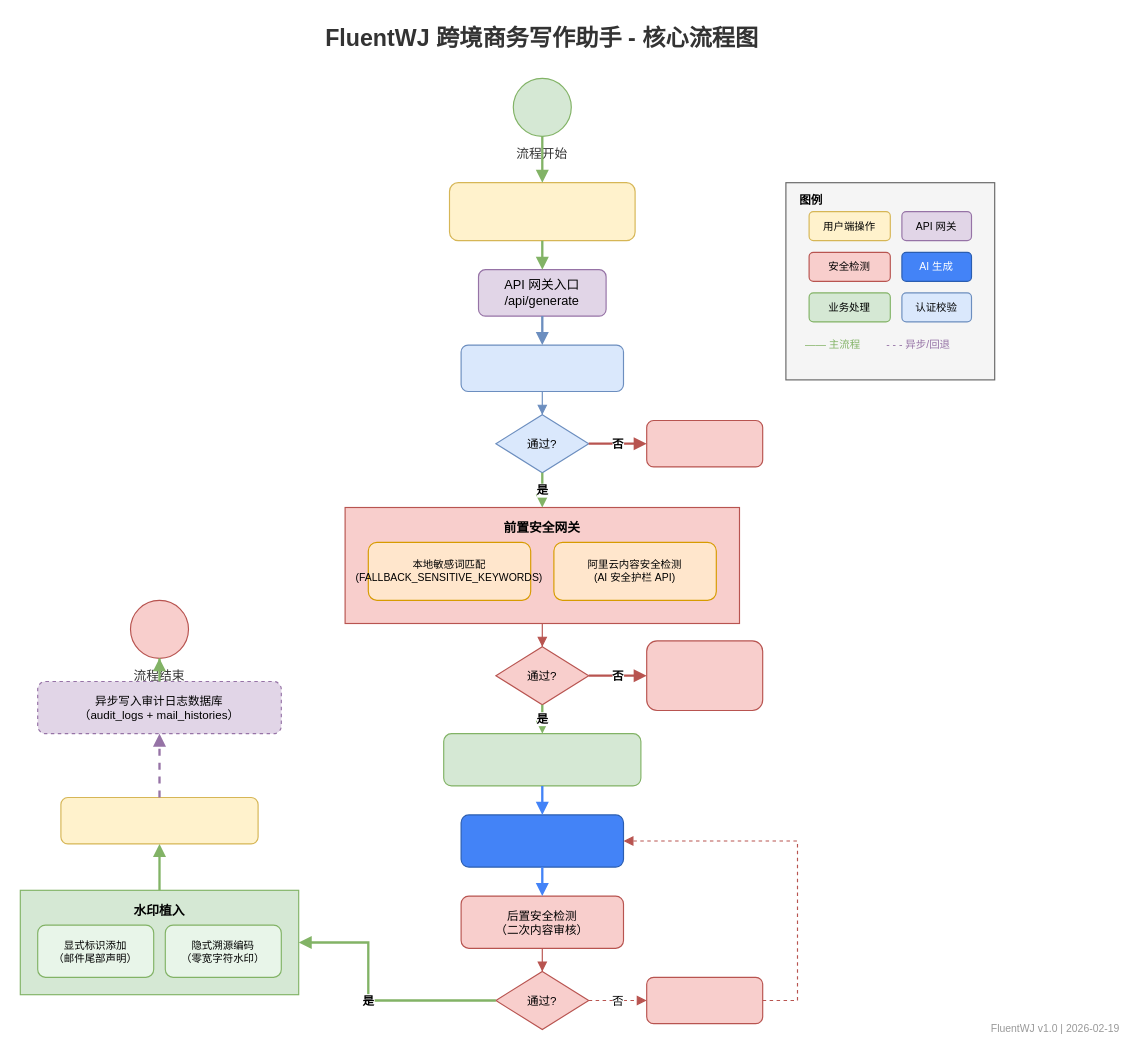
Some shapes in this 1143 by 1060 pixel diagram are drawn without their labels. Each missing label, with the centre of its shape:
"内容过滤 重新生成" goes at [704,1000].
"实名认证与权限校验" goes at [542,368].
"提示词组装 （用户输入 + 系统预设模板）" goes at [542,759].
"生成结果返回用户端展示" goes at [159,820].
"用户端输入结构化数据 （场景/语气/收件人/核心要点）" goes at [541,211].
"调用 DeepSeek-V3 文本生成推理" goes at [542,840].
"返回 401 错误 请先登录" goes at [704,443].
"违规拦截 记录审计日志 返回友好提示" goes at [704,675].
